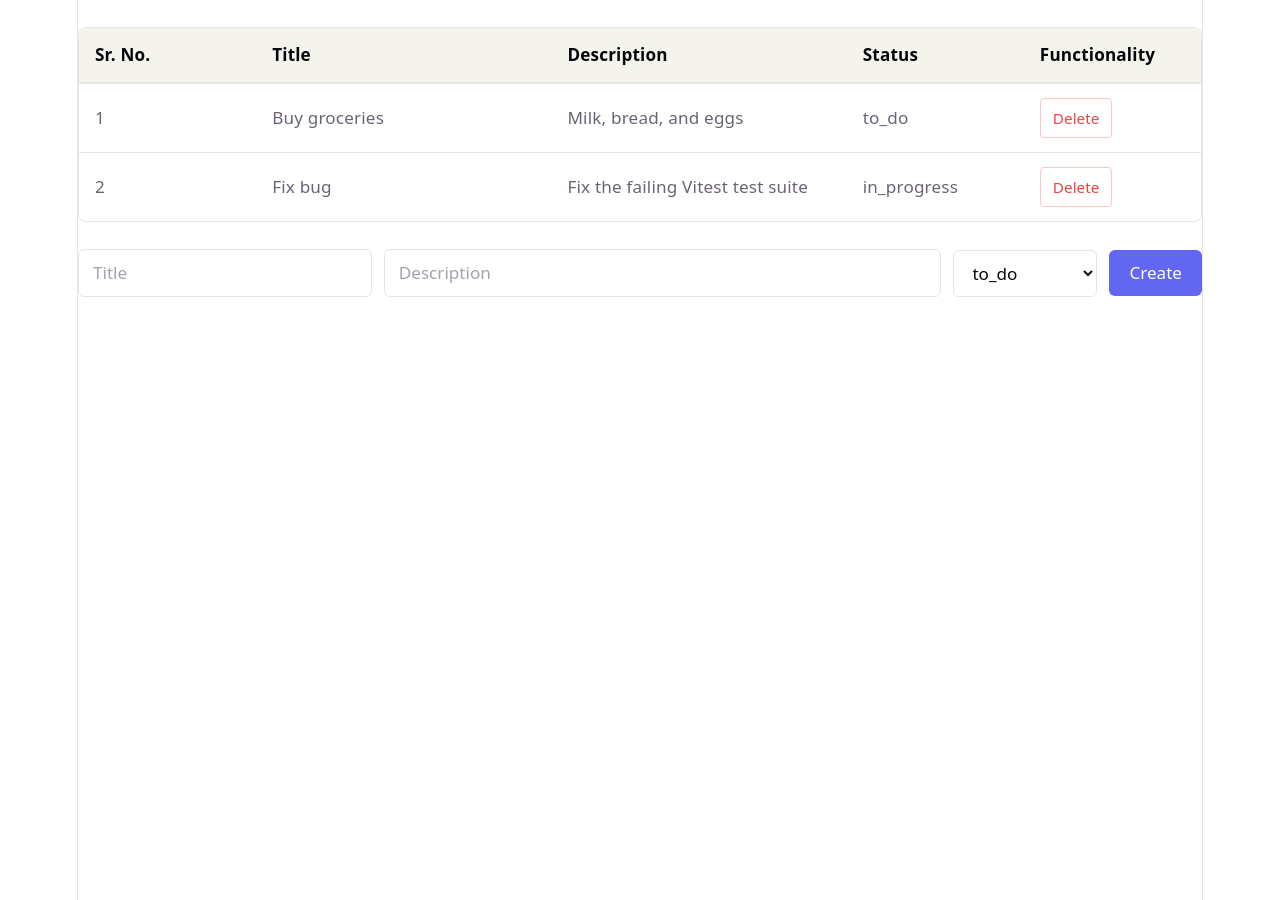
Scenario: TodoList › shows an error and does not add a duplicate when creating a todo with an existing title
Expected: the text "Buy groceries" is shown, [256,84,552,153]
Type "Buy groceries" into the field named "New title" at (225, 273), box [78,249,372,297]
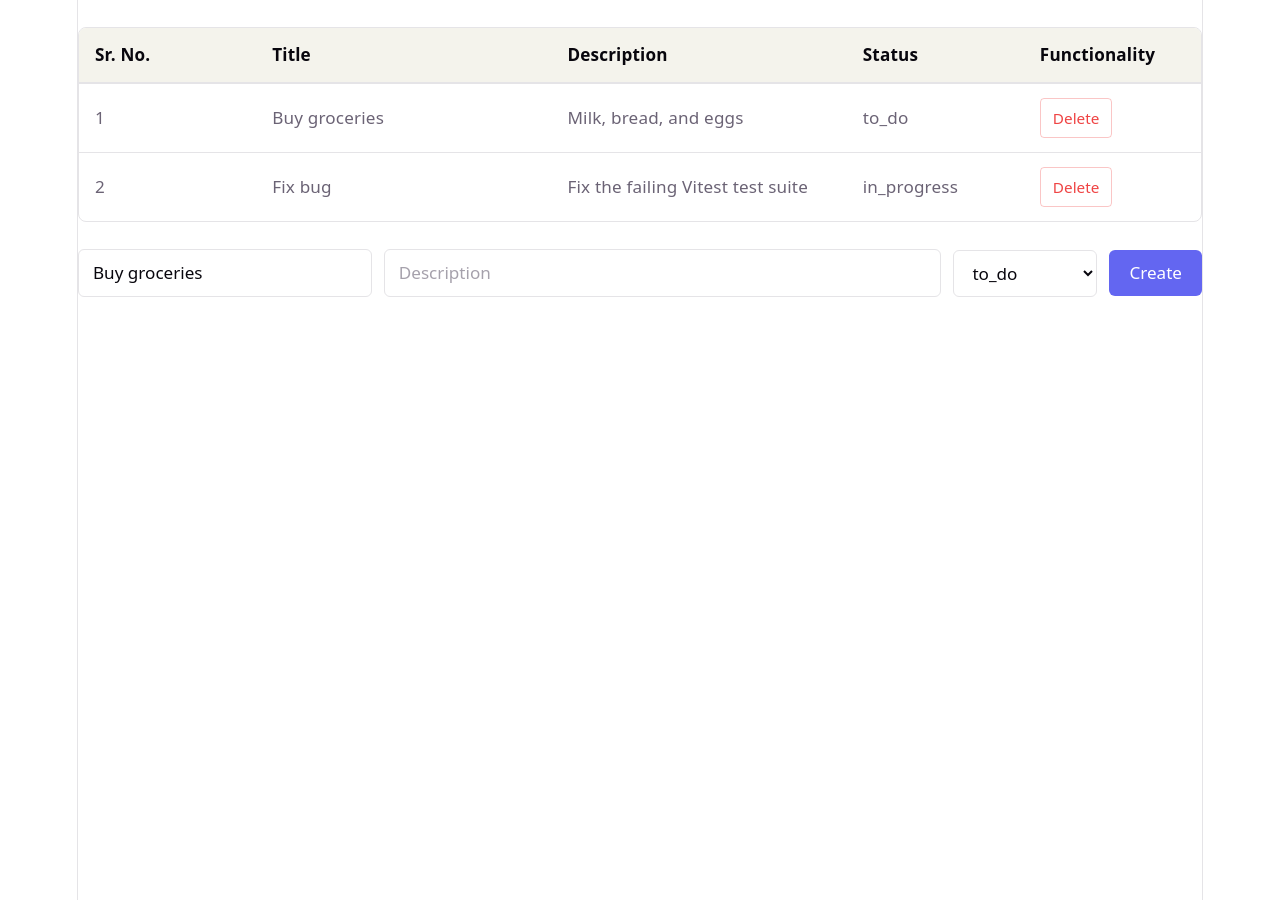
Type "Duplicate attempt" into the field named "New description" at (663, 273), box [384,249,941,297]
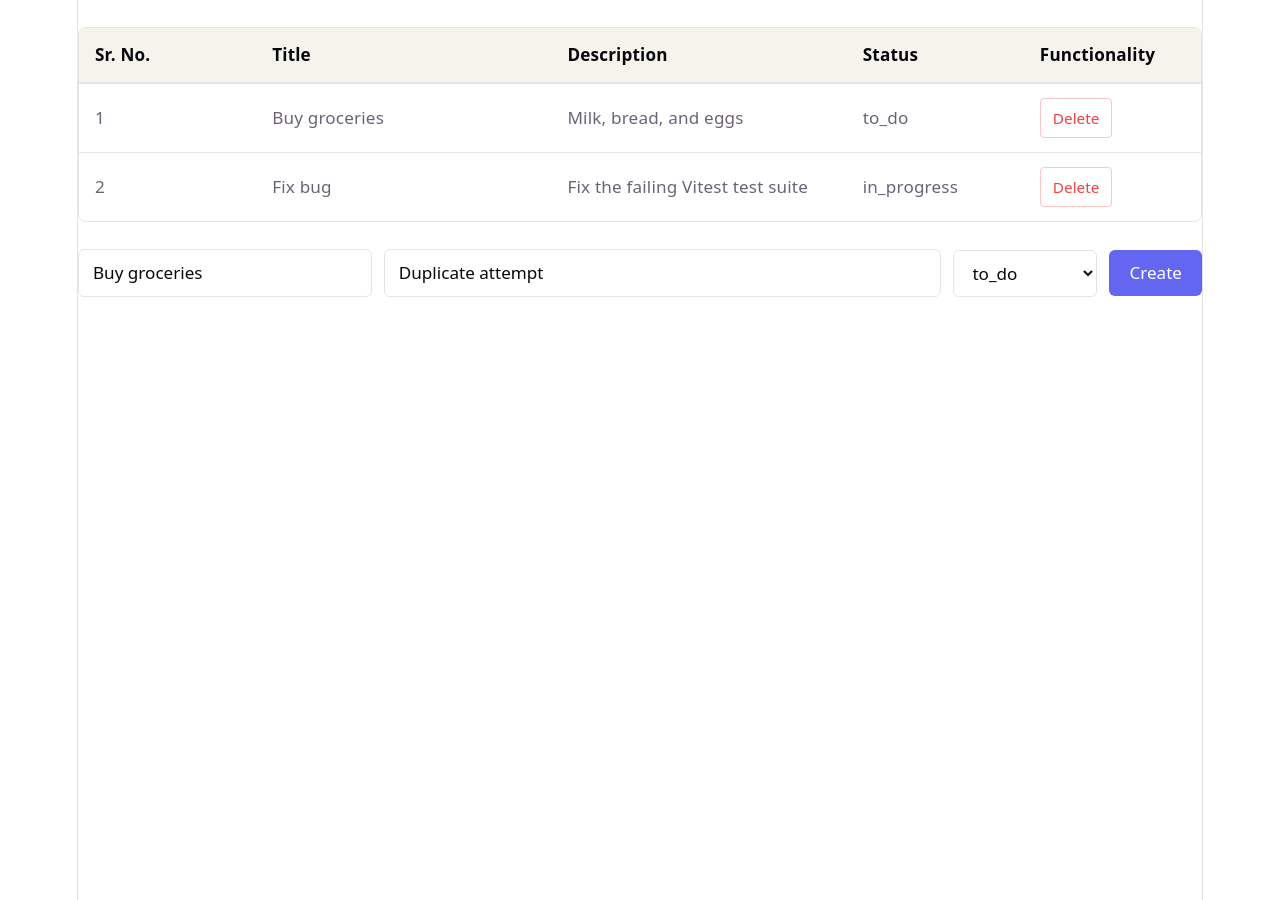
Click the button "Create" at (1156, 273), box [1109,250,1202,296]
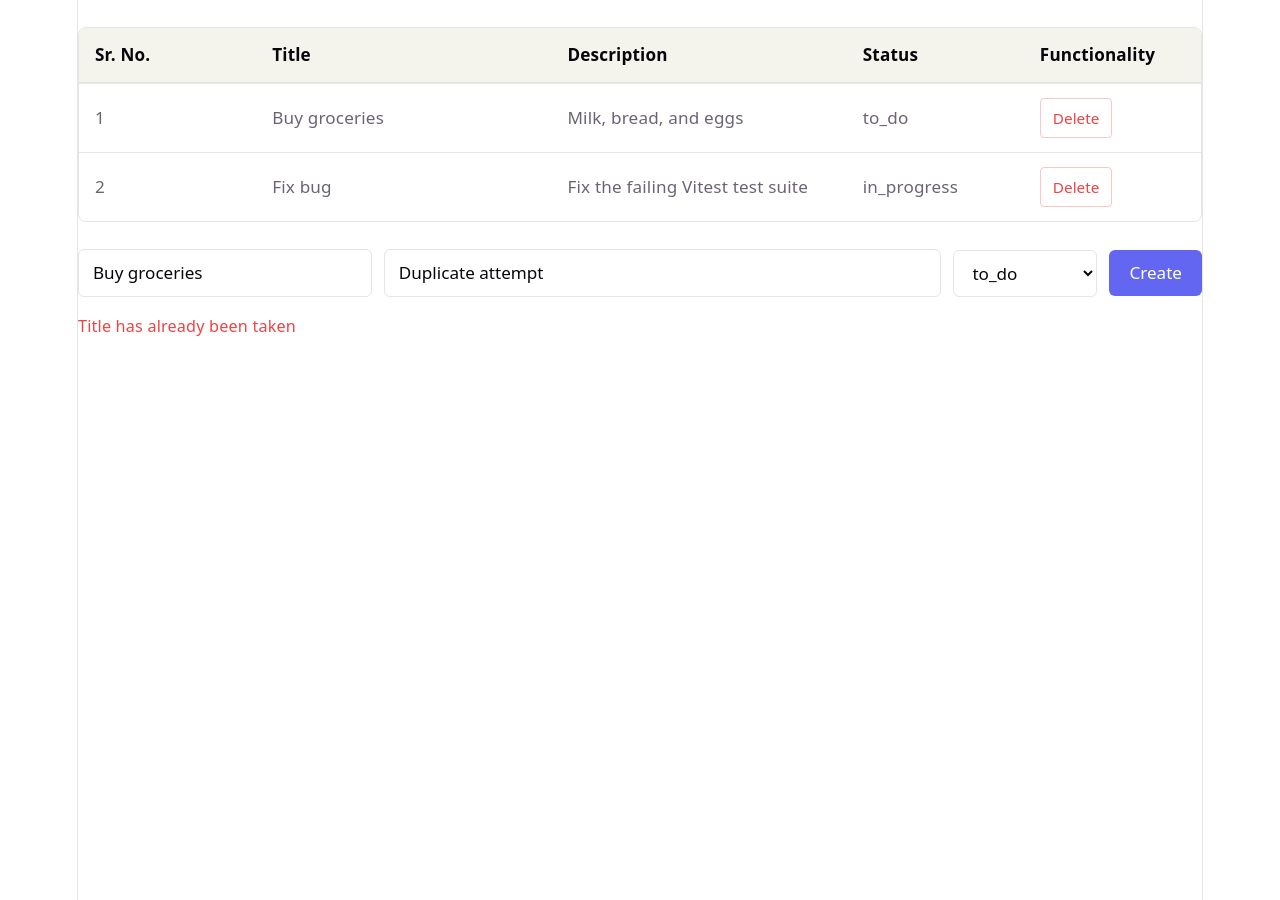
Expected: the text "Buy groceries" is shown once, [256,84,552,153]
Expected: the text "Title has already been taken" is shown, [78,315,296,337]
